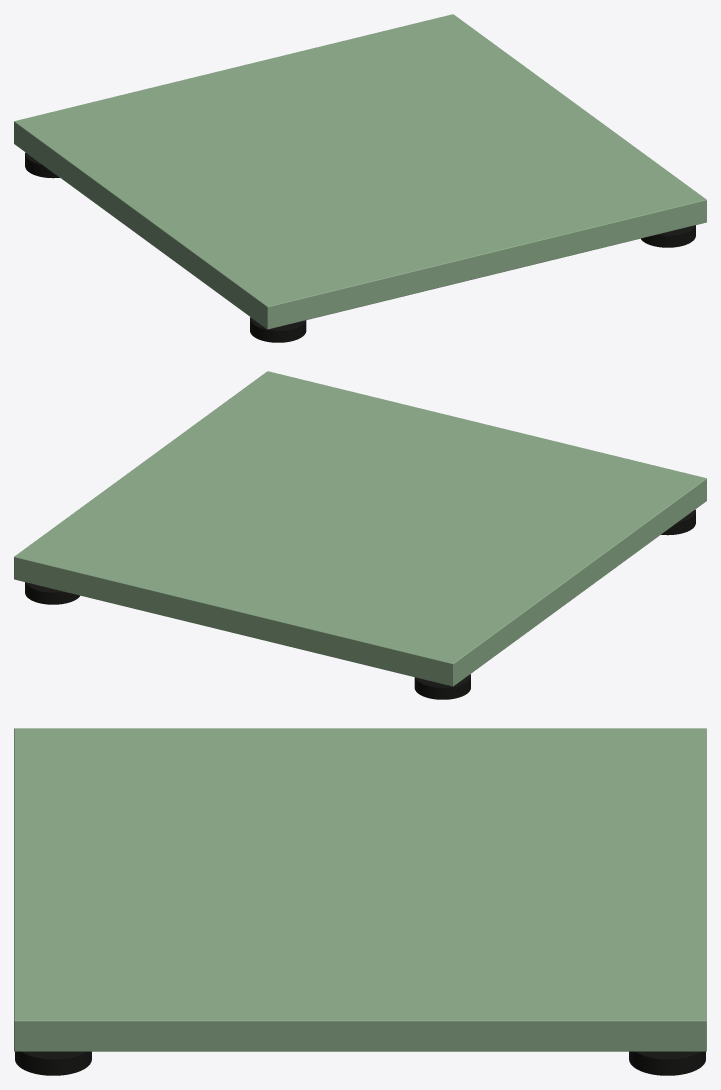
The model's file is PLT-1X1-SA.glb.
3 views of the same model, one above another, from view 1: azimuth 30°, elevation 25°; view 2: azimuth 150°, elevation 25°; view 3: azimuth 270°, elevation 25° (orthographic). The views are drawn at different scales.
Size of the model in its own units: 360 by 32 by 360.
